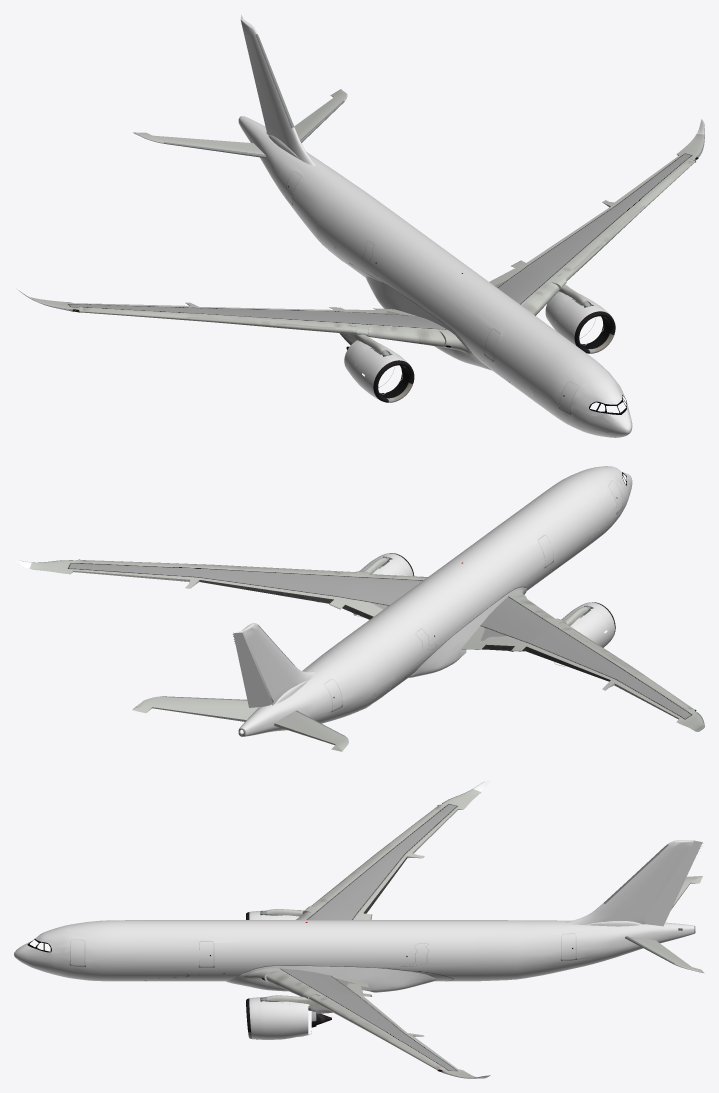
The model's file is A330NEO_LOD03.gltf.
3 views of the same model, one above another, from view 1: azimuth 30°, elevation 25°; view 2: azimuth 150°, elevation 25°; view 3: azimuth 270°, elevation 25° (orthographic). The views are drawn at different scales.
Parts seen in each view (by area): view 1: node2, node15.003, node15.006, node2.001, node19.001, node19.002, node147.002, axis_trim_l; view 2: node2, node15.006, node15.003, node2.001, axis_trim_l, axis_rudder, node19.001, node147.002, node19.002; view 3: node2, node15.003, node15.006, node2.001, node19.002, axis_rudder, REVERSE_LEFT, axis_trim_l, node19.001.
Part boxes in pixels (x1,y1,x2,y2): node2: [238, 116, 632, 437]; node15.003: [16, 288, 470, 354]; node15.006: [489, 119, 704, 315]; node2.001: [241, 19, 315, 165]; node19.001: [339, 333, 414, 402]; node19.002: [555, 284, 615, 353]; node147.002: [133, 132, 266, 158]; axis_trim_l: [294, 89, 347, 142]; node2: [238, 466, 632, 736]; node15.006: [14, 559, 427, 619]; node15.003: [461, 589, 704, 731]; node2.001: [242, 623, 315, 705]; axis_trim_l: [132, 696, 259, 721]; axis_rudder: [233, 630, 272, 707]; node19.001: [557, 602, 615, 665]; node147.002: [274, 710, 348, 751]; node19.002: [356, 553, 414, 616]; node2: [14, 920, 695, 992]; node15.003: [296, 780, 490, 919]; node15.006: [244, 968, 490, 1078]; node2.001: [566, 840, 694, 926]; node19.002: [246, 995, 332, 1039]; axis_rudder: [644, 840, 702, 926]; REVERSE_LEFT: [283, 1001, 311, 1039]; axis_trim_l: [625, 936, 704, 973]; node19.001: [246, 909, 304, 919].
Bounding box in the file's own units: 63.72 × 15.59 × 63.03.
